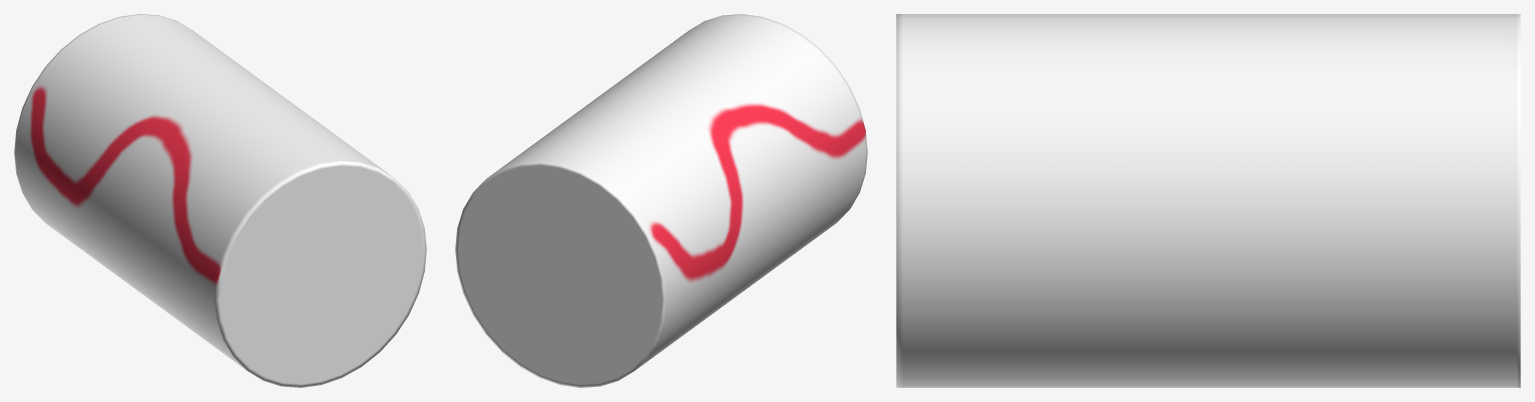
Rendered from simpleCylinder.dae.
3 renders of one model, left to right at view 1: azimuth 30°, elevation 25°; view 2: azimuth 150°, elevation 25°; view 3: azimuth 270°, elevation 25°, orthographic. The views are drawn at different scales.
Parts seen in each view (by area): view 1: Cylinder; view 2: Cylinder; view 3: Cylinder.
Part boxes in pixels (<box>): Cylinder: <box>14,14,426,387</box>; Cylinder: <box>455,14,867,387</box>; Cylinder: <box>896,14,1520,387</box>.
Bounding box in the file's own units: 0.675 × 1.13 × 0.675.
Materials: 1 (1 with a texture image).
